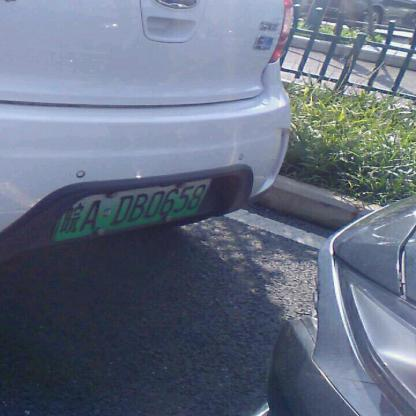lp: (56, 179, 75, 240)
